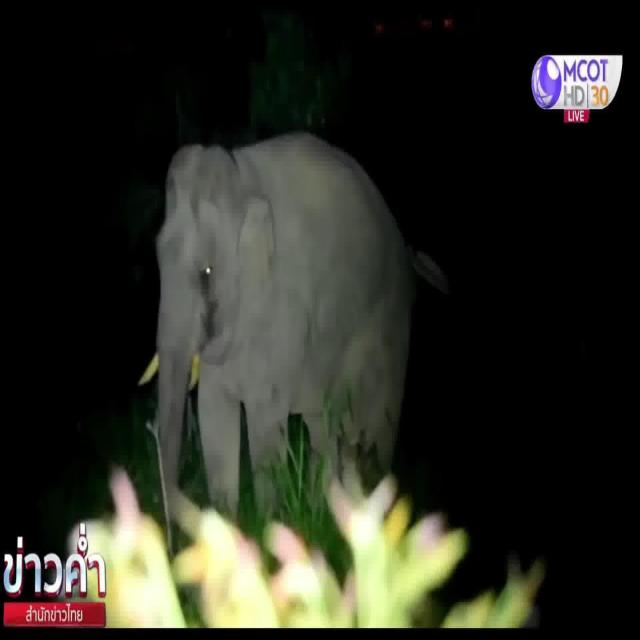Elephant: (134, 120, 397, 479)
